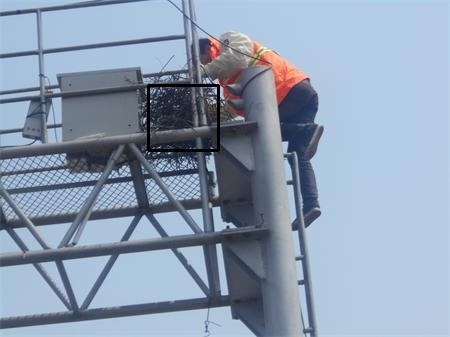bird-nest: (148, 85, 218, 150)
